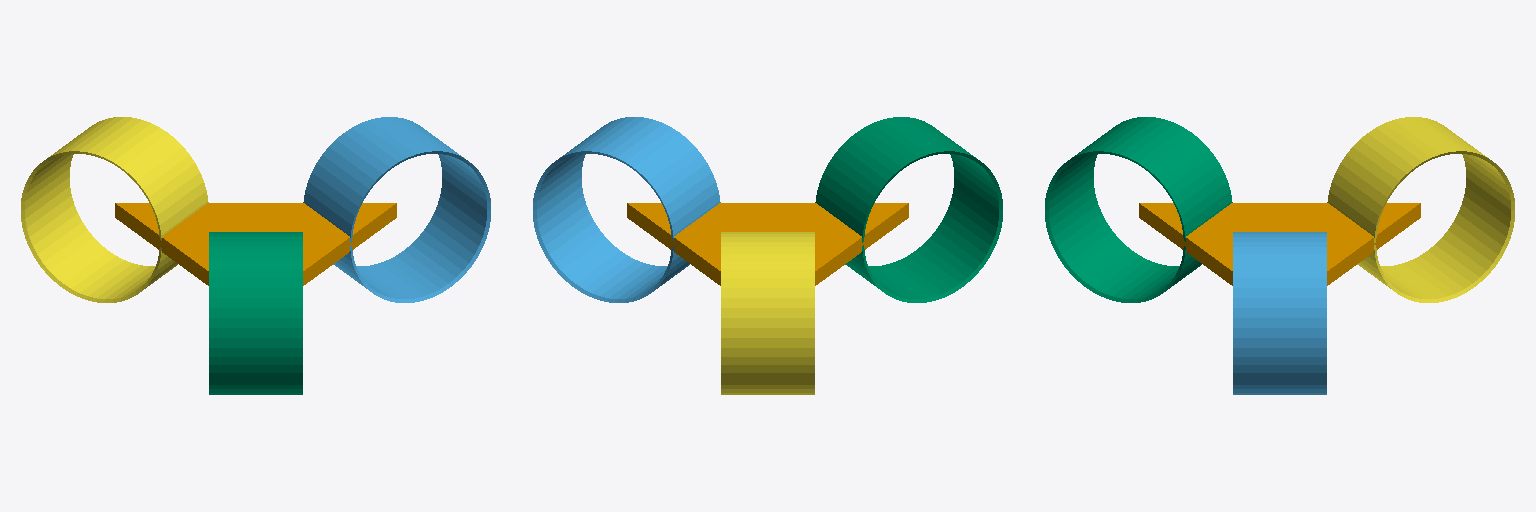
The robot description file, URDF, robot "galago_springs":
<?xml version="1.0"?>
	<!-- a test of spring, see reference from ODE discussion
      http://www.ode.org/old_list_archives/2006-March/018014.html
      where stiffness and damping are related to joint limit cfm and erp
      public static void Calc(float springConstant, float dampingCofficient, float
      sprungMass, out float erp, out float cfm)
      {
                  float r = 2.0f * dampingCofficient * (float)Math.Sqrt(sprungMass
      * springConstant);
                  float hk = Scene.OdeTimeStep * springConstant;

                  erp = hk / (hk + r);
                  cfm = 1.0f / (hk + r);
      }
      in the end,
      erp = dt * kp / ( dt * kp + kd )
      cfm = 1 / ( dt * kp + kd )
    -->
	






<robot name="galago_springs">
	<link name='chassis'>
		<inertial>
			<origin xyz="0 0 0.5" rpy="0 0 0"/>
			<mass value="7.0"/>
			<inertia ixx="0.1" ixy="0.0" ixz="0.0" iyy="0.1" iyz="0.0" izz="0.1" />
		</inertial>
		<collision name='chassis_collision'>
			<origin xyz="0 0 0.5" rpy="0 0 0"/>
			<geometry>
				<mesh filename="package://galago_gazebo_models/meshes/galago_springs/galago_simple_base.dae"/>
			</geometry>
		</collision>
		<visual name='chassis_visual'>
			<origin xyz="0 0 0.5" rpy="0 0 0"/>
			<geometry>
				<mesh filename="package://galago_gazebo_models/meshes/galago_springs/galago_simple_base.dae"/>
			</geometry>
			<material name="orange"/>
		</visual>
		<gazebo>
			<static>false</static>
			<gravity>true</gravity>
			<self_collide>false</self_collide>
			<kinematic>false</kinematic>
			<velocity_decay>
				<linear>0.0</linear>
				<angular>0.0</angular>
			</velocity_decay>
			<max_contacts>250</max_contacts>
			<surface>
				<friction>
					<ode>
						<mu>0.2</mu>
						<mu2>0.2</mu2>
						<fdir1>1.0 0 0</fdir1>
						<slip1>0</slip1>
						<slip2>0</slip2>
					</ode>
				</friction>
				<contact>
					<ode>
						<kp>111.1111</kp>
						<kd>0.0</kd>
						<max_vel>10000.0</max_vel>
						<min_depth>0.0</min_depth>
					</ode>
				</contact>
			</surface>
		</gazebo>
	</link>
	
	<link name='spring_a'>
		<inertial>
			<origin xyz="0 0 0" rpy="0 0 0"/>
			<mass value="1.0"/>
			<inertia ixx="0.01" ixy="0.0" ixz="0.0" iyy="0.01" iyz="0.0" izz="0.01" />
		</inertial>
		<collision name='spring_a_collision'>
			<origin xyz="0 0 0" rpy="0 0 0"/>
			<geometry>
				<mesh filename="package://galago_gazebo_models/meshes/galago_springs/galago_simple_spring.dae"/>
			</geometry>
			<surface>
				<bounce restitution_coefficient="1.0" threshold="0.01"/>
			</surface>
		</collision>
		<visual name='spring_a_visual'>
			<origin xyz="0 0 0" rpy="0 0 0"/>
			<geometry>
				<mesh filename="package://galago_gazebo_models/meshes/galago_springs/galago_simple_spring.dae"/>
			</geometry>
			<material name="orange"/>
		</visual>
		<!--gazebo>
			<static>false</static>
			<gravity>true</gravity>
			<self_collide>false</self_collide>
			<kinematic>false</kinematic>
			<velocity_decay>
				<linear>0.0</linear>
				<angular>0.0</angular>
			</velocity_decay>
			<max_contacts>250</max_contacts>
			<surface>
				<friction>
					<ode>
						<mu>0.2</mu>
						<mu2>0.2</mu2>
						<fdir1>1.0 0 0</fdir1>
						<slip1>0</slip1>
						<slip2>0</slip2>
					</ode>
				</friction>
				<contact>
					<ode>
						<kp>111.1111</kp>
						<kd>0.0</kd>
						<max_vel>10000.0</max_vel>
						<min_depth>0.0</min_depth>
					</ode>
				</contact>
			</surface>
		</gazebo-->
	</link>
	
	<gazebo reference="spring_a">
		<mu1 value="100.0" />
		<mu2 value="0.1" />
		<!-- kp value="10000000.0" / -->
		<maxVel value="10.0"/>
		<kp value="100000000.0" />
		<kd value="1.0" />
		<fdir1 value="1 0 0" />
		<material>Gazebo/Grey</material>
		<turnGravityOff>false</turnGravityOff>
	</gazebo>
	
	<link name='spring_b'>
		<inertial>
			<origin xyz="0 0 0" rpy="0 0 2.094333333"/>
			<mass value="1.0"/>
			<inertia ixx="0.01" ixy="0.0" ixz="0.0" iyy="0.01" iyz="0.0" izz="0.01" />
		</inertial>
		<collision name='spring_b_collision'>
			<origin xyz="0 0 0" rpy="0 0 2.094333333"/>
			<geometry>
				<mesh filename="package://galago_gazebo_models/meshes/galago_springs/galago_simple_spring.dae"/>
			</geometry>
			<surface>
				<bounce restitution_coefficient="1.0" threshold="0.01"/>
			</surface>
		</collision>
		<visual name='spring_b_visual'>
			<origin xyz="0 0 0" rpy="0 0 2.094333333"/>
			<geometry>
				<mesh filename="package://galago_gazebo_models/meshes/galago_springs/galago_simple_spring.dae"/>
			</geometry>
			<material name="black"/>
		</visual>
		<!--gazebo>
			<static>false</static>
			<gravity>true</gravity>
			<self_collide>false</self_collide>
			<kinematic>false</kinematic>
			<velocity_decay>
				<linear>0.0</linear>
				<angular>0.0</angular>
			</velocity_decay>
			<max_contacts>250</max_contacts>
			<surface>
				<friction>
					<ode>
						<mu>0.2</mu>
						<mu2>0.2</mu2>
						<fdir1>1.0 0 0</fdir1>
						<slip1>0</slip1>
						<slip2>0</slip2>
					</ode>
				</friction>
				<contact>
					<ode>
						<kp>111.1111</kp>
						<kd>0.0</kd>
						<max_vel>10000.0</max_vel>
						<min_depth>0.0</min_depth>
					</ode>
				</contact>
			</surface>
		</gazebo-->
	</link>
	
	<gazebo reference="spring_b">
		<mu1 value="100.0" />
		<mu2 value="0.1" />
		<!-- kp value="10000000.0" / -->
		<maxVel value="10.0"/>
		<kp value="100000000.0" />
		<kd value="1.0" />
		<fdir1 value="1 0 0" />
		<material>Gazebo/Grey</material>
		<turnGravityOff>false</turnGravityOff>
	</gazebo>
	
	<link name='spring_c'>
		<inertial>
			<origin xyz="0 0 0" rpy="0 0 -2.094333333"/>
			<mass value="1.0"/>
			<inertia ixx="0.01" ixy="0.0" ixz="0.0" iyy="0.01" iyz="0.0" izz="0.01" />
		</inertial>
		<collision name='spring_c_collision'>
			<origin xyz="0 0 0" rpy="0 0 -2.094333333"/>
			<geometry>
				<mesh filename="package://galago_gazebo_models/meshes/galago_springs/galago_simple_spring.dae"/>
			</geometry>
			<surface>
				<bounce restitution_coefficient="1.0" threshold="0.01"/>
			</surface>
		</collision>
		<visual name='spring_c_visual'>
			<origin xyz="0 0 0" rpy="0 0 -2.094333333"/>
			<geometry>
				<mesh filename="package://galago_gazebo_models/meshes/galago_springs/galago_simple_spring.dae"/>
			</geometry>
			<material name="black"/>
		</visual>
	</link>
	
	<gazebo reference="spring_c">
		<mu1 value="100.0" />
		<mu2 value="0.1" />
		<!-- kp value="10000000.0" / -->
		<maxVel value="10.0"/>
		<kp value="100000000.0" />
		<kd value="1.0" />
		<fdir1 value="1 0 0" />
		<material>Gazebo/Grey</material>
		<turnGravityOff>false</turnGravityOff>
		<!--static>false</static>
		<gravity>true</gravity>
		<self_collide>false</self_collide>
		<kinematic>true</kinematic>
		<velocity_decay>
			<linear>0.0</linear>
			<angular>0.0</angular>
		</velocity_decay>
		<kp>[phone redacted]</kp>
		<kd>1000</kd-->
		<!--minDepth>0.5</minDepth-->
		<!--dampingFactor>0.5</dampingFactor-->
		<!--max_contacts>250</max_contacts>
		<surface>
			<friction>
				<ode>
					<mu>0.2</mu>
					<mu2>0.2</mu2>
					<fdir1>1.0 0 0</fdir1>
					<slip1>0</slip1>
					<slip2>0</slip2>
				</ode>
			</friction>
			<contact>
				<ode>
					<kp>111.1111</kp>
					<kd>0.0</kd>
					<max_vel>10000.0</max_vel>
					<min_depth>0.0</min_depth>
				</ode>
			</contact>
		</surface-->
	</gazebo>
	
	<joint name="spring_a_joint" type="prismatic">
		<parent link="chassis"/>
		<child link="spring_a"/>
		<origin xyz="1 0 0.5" rpy="0 0 0"/>
		<axis xyz="0 0 1"/>
		<limit lower="0" upper="0" effort="1000" velocity="10"/>
		<dynamics dumping="0.5" friction="0.0"/>
	</joint>
	
	<!--gazebo reference="spring_a_joint">
		<implicitSpringDamper>true</implicitSpringDamper>
		<stopCfm>0.1</stopCfm>
		<stopErp>0.01</stopErp>
	</gazebo-->
	
	<joint name="spring_b_joint" type="prismatic">
		<parent link="chassis"/>
		<child link="spring_b"/>
		<origin xyz="-0.5 -0.866023404 0.5" rpy="0 0 2.094333333"/>
		<axis xyz="0 0 1"/>
		<limit lower="0" upper="0" effort="1000" velocity="10"/>
		<dynamics dumping="0.5" friction="0.0"/>
	</joint>
	
	<!--gazebo reference="spring_b_joint">
		<implicitSpringDamper>true</implicitSpringDamper>
		<stopCfm>0.1</stopCfm>
		<stopErp>0.01</stopErp>
	</gazebo-->
	
	<joint name="spring_c_joint" type="prismatic">
		<parent link="chassis"/>
		<child link="spring_c"/>
		<origin xyz="-0.5 0.866023404 0.5" rpy="0 0 -2.094333333"/>
		<axis xyz="0 0 1"/>
		<limit lower="0" upper="0" effort="1000" velocity="10"/>
		<dynamics dumping="0.5" friction="0.0"/>
	</joint>
	
	<!---gazebo reference="spring_c_joint">
		<implicitSpringDamper>true</implicitSpringDamper>
		<stopCfm>0.1</stopCfm>
		<stopErp>0.01</stopErp>
	</gazebo-->
	
</robot>

--- What the picture shows (computed from the rendered views, not written in the file) ---
The picture shows the robot from 3 angles, left to right: view 1: azimuth 30°, elevation 25°; view 2: azimuth 150°, elevation 25°; view 3: azimuth 270°, elevation 25°; orthographic projection.
Robot: galago_springs — 4 links, 3 joints (3 prismatic); root link chassis; default pose: every joint at zero.
Visible links, largest first — view 1: spring_a, spring_c, spring_b, chassis; view 2: spring_b, spring_a, spring_c, chassis; view 3: spring_c, spring_b, spring_a, chassis.
Boxes of the visible links, x1,y1,x2,y2 form: spring_a: (303, 117, 490, 302); spring_c: (21, 117, 208, 302); spring_b: (209, 232, 302, 394); chassis: (115, 203, 396, 285); spring_b: (815, 117, 1002, 302); spring_a: (533, 117, 720, 302); spring_c: (721, 232, 814, 394); chassis: (627, 203, 908, 285); spring_c: (1327, 117, 1514, 302); spring_b: (1045, 117, 1232, 302); spring_a: (1233, 232, 1326, 394); chassis: (1139, 203, 1420, 285).
Bounding box of the posed robot: 2.5 × 2.89 × 1 m (x, y, z).
Meshes: 2 distinct files referenced, 4 mesh visuals loaded (2 Collada DAE).